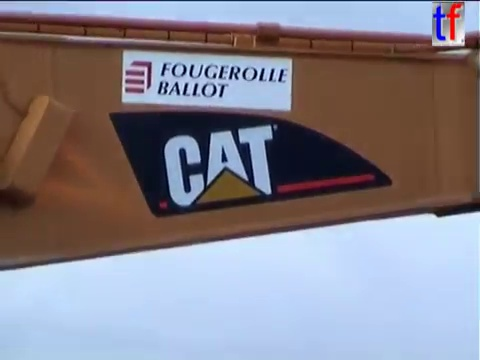excavator: (1, 7, 480, 275)
